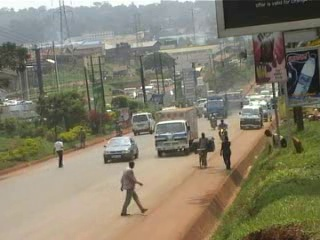Car: (101, 133, 140, 164)
Motorcycle: (215, 120, 228, 141), (205, 112, 217, 131)
